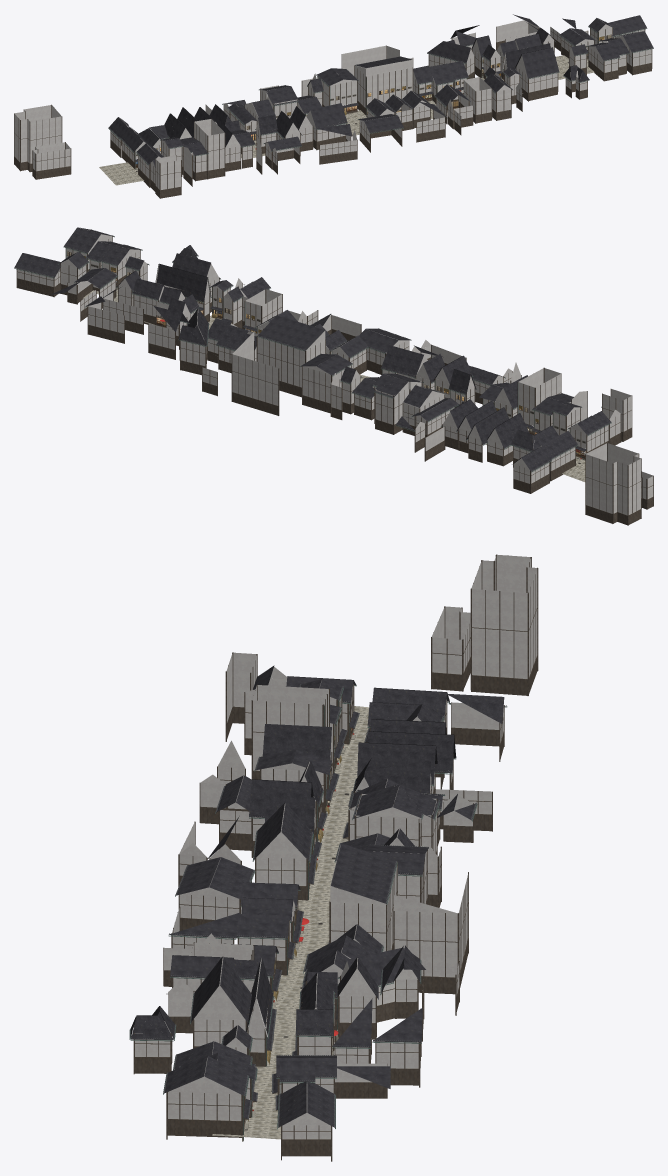
Rendered from yasaka.glb.
The picture shows the model from 3 angles, top to bottom: view 1: azimuth 30°, elevation 25°; view 2: azimuth 150°, elevation 25°; view 3: azimuth 270°, elevation 25°; orthographic projection. The views are drawn at different scales.
Visible parts, largest first — view 1: yasaka_roof_kawara, yasaka_plaster_grey, yasaka_plaster_white, yasaka_wood_dark, yasaka_wood_board, yasaka_plaster_bengara, yasaka_plaster_ochre, yasaka_ground_sett, yasaka_tile_edge_fine, yasaka_copper; view 2: yasaka_roof_kawara, yasaka_plaster_grey, yasaka_plaster_white, yasaka_wood_dark, yasaka_wood_board, yasaka_plaster_ochre, yasaka_plaster_bengara, yasaka_tile_edge_fine, yasaka_copper, yasaka_ground_sett; view 3: yasaka_roof_kawara, yasaka_plaster_white, yasaka_plaster_grey, yasaka_wood_dark, yasaka_wood_board, yasaka_ground_sett, yasaka_plaster_ochre, yasaka_plaster_bengara, yasaka_tile_edge_fine, yasaka_copper.
Part boxes in pixels (x1,y1,x2,y2): yasaka_roof_kawara: (109,14,653,167); yasaka_plaster_grey: (122,19,612,189); yasaka_plaster_white: (14,27,651,177); yasaka_wood_dark: (14,22,652,198); yasaka_wood_board: (14,38,651,198); yasaka_plaster_bengara: (33,32,617,172); yasaka_plaster_ochre: (110,29,644,183); yasaka_ground_sett: (99,55,594,185); yasaka_tile_edge_fine: (108,18,653,164); yasaka_copper: (108,26,653,168); yasaka_roof_kawara: (14,227,610,471); yasaka_plaster_grey: (61,253,631,470); yasaka_plaster_white: (66,228,640,515); yasaka_wood_dark: (16,236,653,525); yasaka_wood_board: (17,269,653,525); yasaka_plaster_ochre: (17,268,620,483); yasaka_plaster_bengara: (102,247,653,499); yasaka_tile_edge_fine: (14,229,611,471); yasaka_copper: (14,236,611,472); yasaka_ground_sett: (83,288,585,481); yasaka_roof_kawara: (130,665,504,1127); yasaka_plaster_white: (135,554,537,1120); yasaka_plaster_grey: (191,652,468,1093); yasaka_wood_dark: (133,554,538,1161); yasaka_wood_board: (135,657,537,1156); yasaka_ground_sett: (212,706,369,1139); yasaka_plaster_ochre: (172,667,503,1139); yasaka_plaster_bengara: (173,606,472,1063); yasaka_tile_edge_fine: (130,684,506,1127); yasaka_copper: (129,685,506,1140).
Size of the model in its own units: 189 by 19.61 by 58.52.
Materials: 26 (18 with a texture image).
